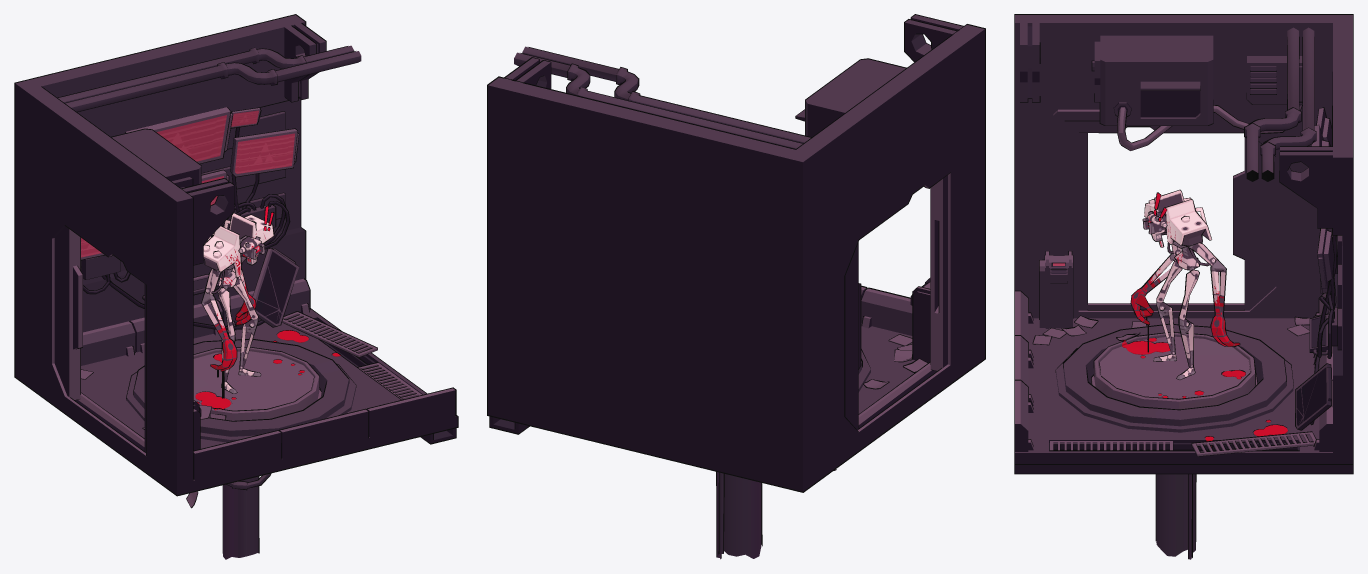
Rendered from i_am_error-transformed.glb.
The picture shows the model from 3 angles, left to right: view 1: azimuth 30°, elevation 25°; view 2: azimuth 150°, elevation 25°; view 3: azimuth 270°, elevation 25°; orthographic projection. The views are drawn at different scales.
Visible parts, largest first — view 1: Object_4, Object_5; view 2: Object_4, Object_5; view 3: Object_4, Object_5.
Boxes of the visible parts, x1=… form: Object_4: x1=15, y1=15, x2=457, y2=559; Object_5: x1=14, y1=14, x2=458, y2=553; Object_4: x1=488, y1=15, x2=984, y2=559; Object_5: x1=487, y1=14, x2=985, y2=558; Object_4: x1=1015, y1=15, x2=1352, y2=559; Object_5: x1=1014, y1=14, x2=1353, y2=559.
Bounding box in the file's own units: 3.88 × 5.62 × 3.69.
Materials: 2 (1 with a texture image).
